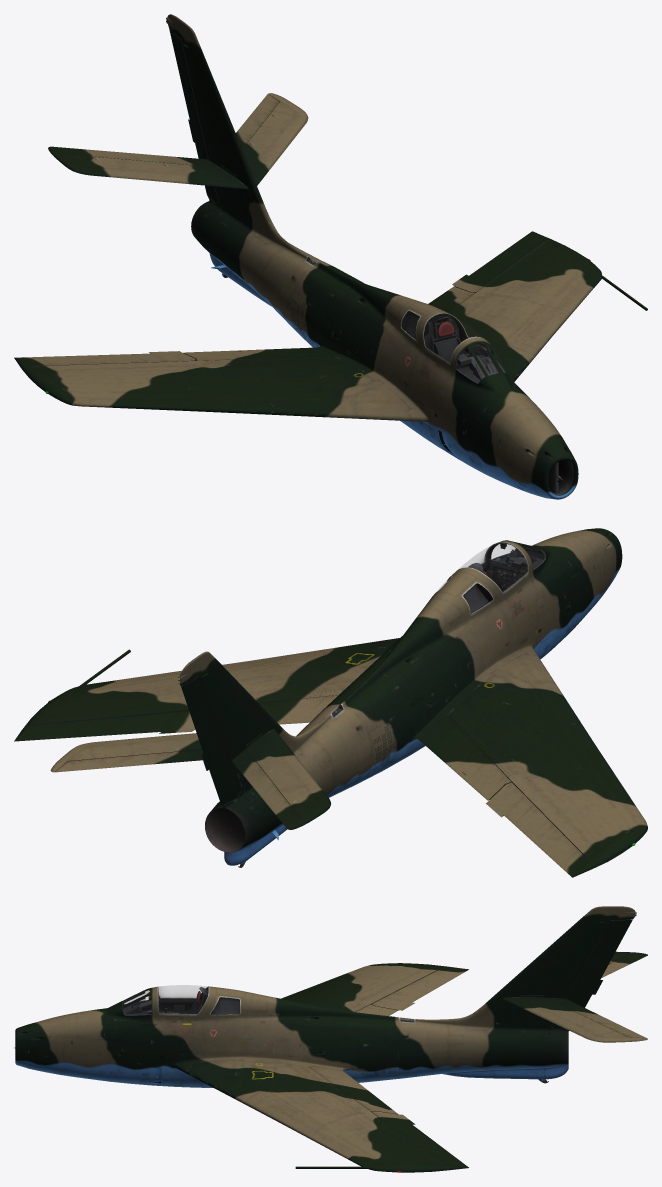
Rendered from f-84f_thunderstreak_world_of_warplanes.glb.
The picture shows the model from 3 angles, top to bottom: view 1: azimuth 30°, elevation 25°; view 2: azimuth 150°, elevation 25°; view 3: azimuth 270°, elevation 25°; orthographic projection. The views are drawn at different scales.
Parts seen in each view (by area): view 1: Object_6, Object_5, Object_4; view 2: Object_6, Object_5, Object_4; view 3: Object_6, Object_5, Object_4.
Boxes of the visible parts, bbox=[...] form: Object_6: bbox=[14, 93, 578, 499]; Object_5: bbox=[14, 14, 647, 421]; Object_4: bbox=[310, 258, 506, 383]; Object_6: bbox=[14, 528, 622, 877]; Object_5: bbox=[14, 638, 647, 877]; Object_4: bbox=[332, 543, 545, 712]; Object_6: bbox=[14, 951, 647, 1167]; Object_5: bbox=[181, 906, 636, 1172]; Object_4: bbox=[122, 985, 413, 1020].
Bounding box in the file's own units: 10.24 × 4.12 × 13.16.
4 materials, 3 textured.
